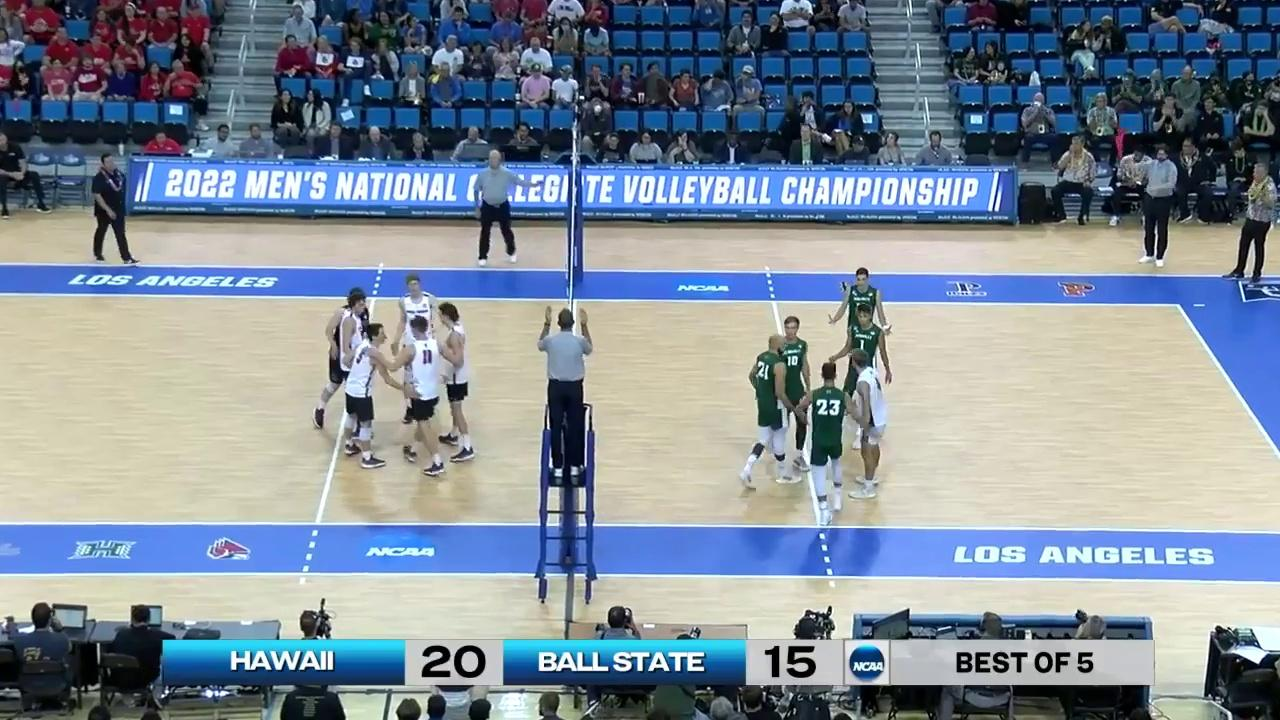player: (744, 334, 797, 486), (805, 368, 859, 516), (314, 289, 366, 432), (397, 318, 444, 475), (345, 322, 391, 468), (432, 304, 473, 464), (396, 276, 440, 424), (843, 305, 887, 449), (772, 315, 809, 471), (848, 347, 884, 496), (340, 295, 376, 441), (843, 268, 884, 391)
refree: (540, 310, 591, 476), (476, 151, 520, 263), (1135, 146, 1174, 267)
